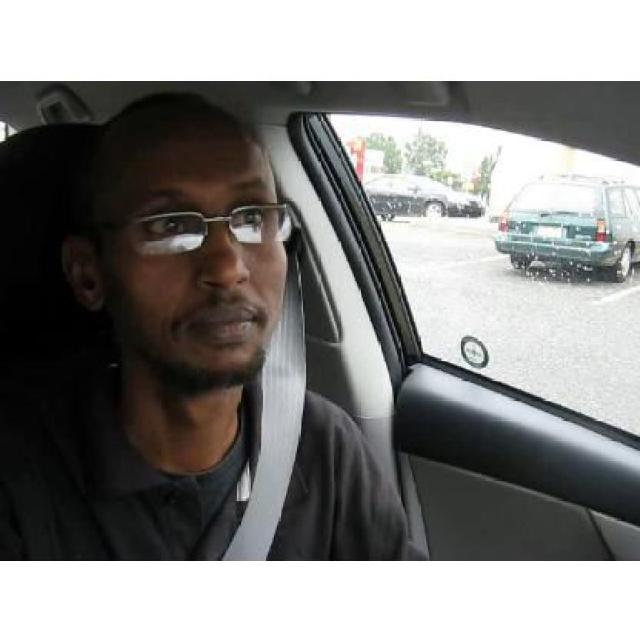attentif: (61, 91, 287, 392)
